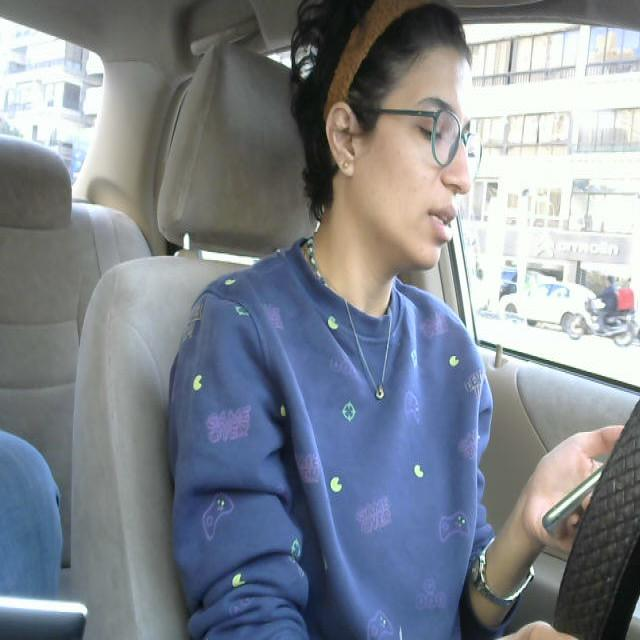mobile use: (542, 459, 618, 539)
